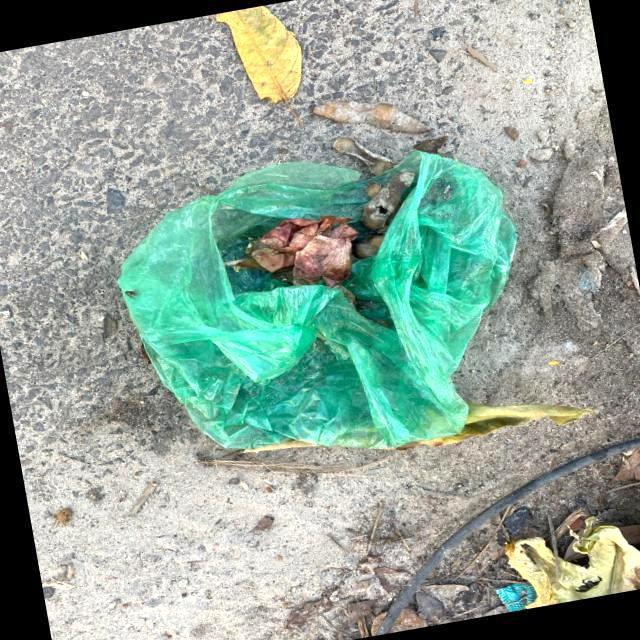polythene: (79, 112, 565, 502)
